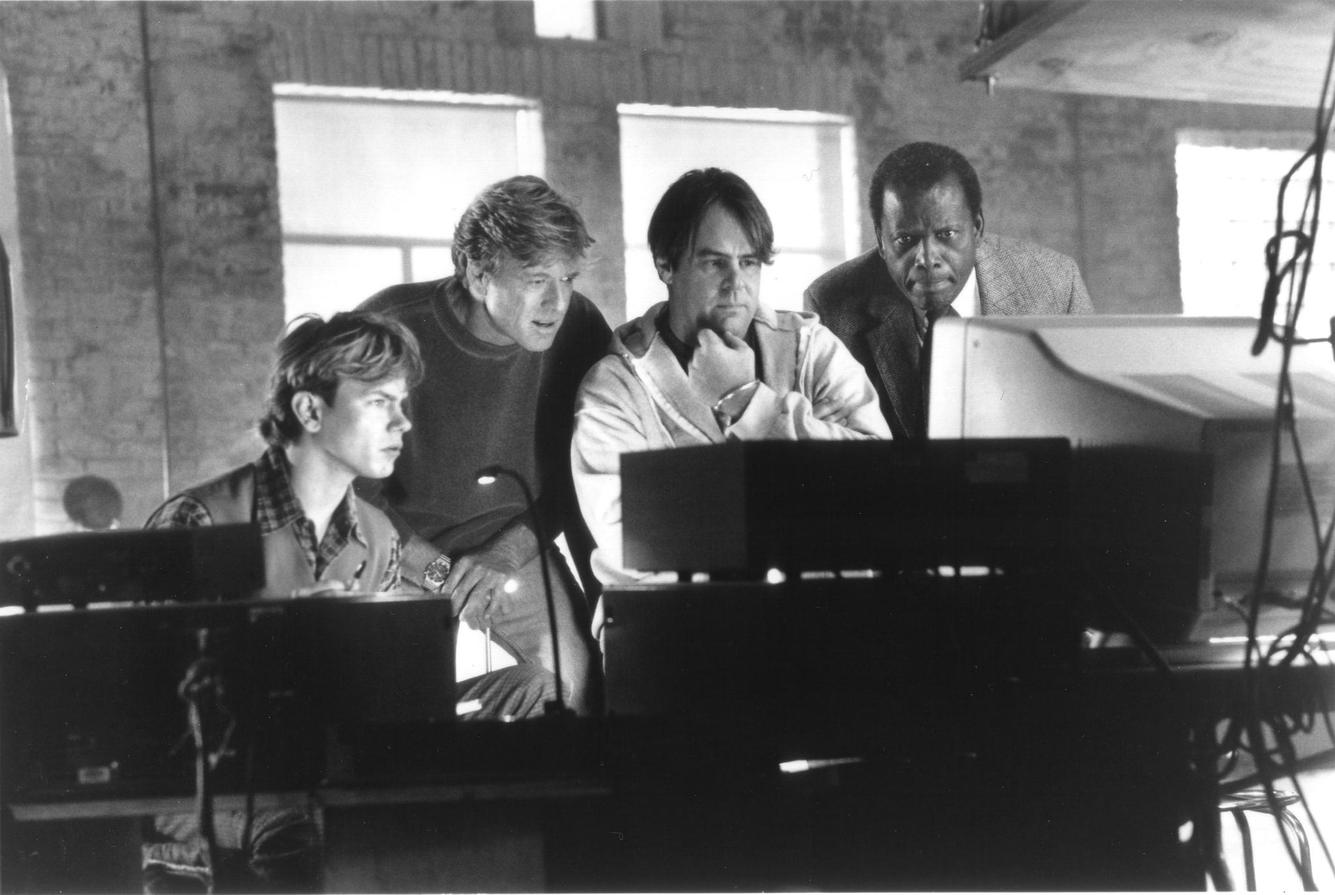23: (308, 338, 427, 496)
35: (664, 189, 776, 355)
48: (473, 222, 589, 367)
52: (866, 160, 987, 330)
Bracelet: (699, 372, 778, 426)
Coat: (566, 291, 898, 615), (797, 224, 1116, 449)
Male: (866, 160, 987, 330), (308, 338, 427, 496), (664, 189, 776, 355), (473, 222, 589, 367)
Pants: (447, 513, 594, 746)
Shirt: (902, 257, 984, 386)
T-shirt: (113, 445, 411, 628)
Upper: (317, 271, 618, 573)
Waistcoat: (141, 462, 400, 628)
Watch: (415, 538, 464, 599)
